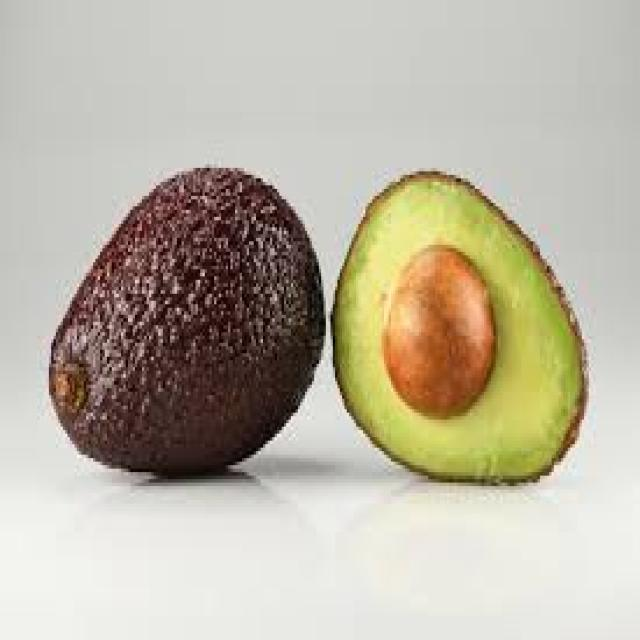Bo: (324, 140, 611, 529), (31, 135, 329, 508), (30, 134, 326, 500)
